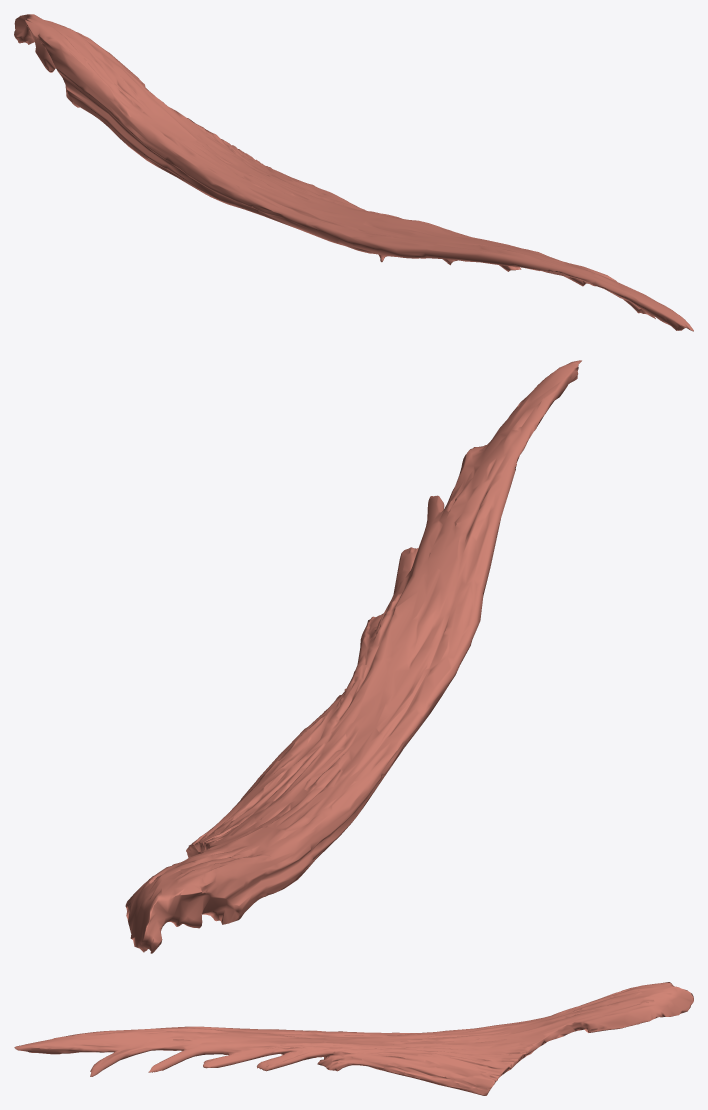
3 views of the same model, one above another, from view 1: azimuth 30°, elevation 25°; view 2: azimuth 150°, elevation 25°; view 3: azimuth 270°, elevation 25° (orthographic). The views are drawn at different scales.
Parts seen in each view (by area): view 1: 左侧腰髂肋肌; view 2: 左侧腰髂肋肌; view 3: 左侧腰髂肋肌.
Boxes of the visible parts, x1=… form: 左侧腰髂肋肌: x1=14, y1=14, x2=693, y2=331; 左侧腰髂肋肌: x1=125, y1=360, x2=581, y2=953; 左侧腰髂肋肌: x1=14, y1=982, x2=693, y2=1095.
Bounding box in the file's own units: 0.1393 × 0.07 × 0.575.
